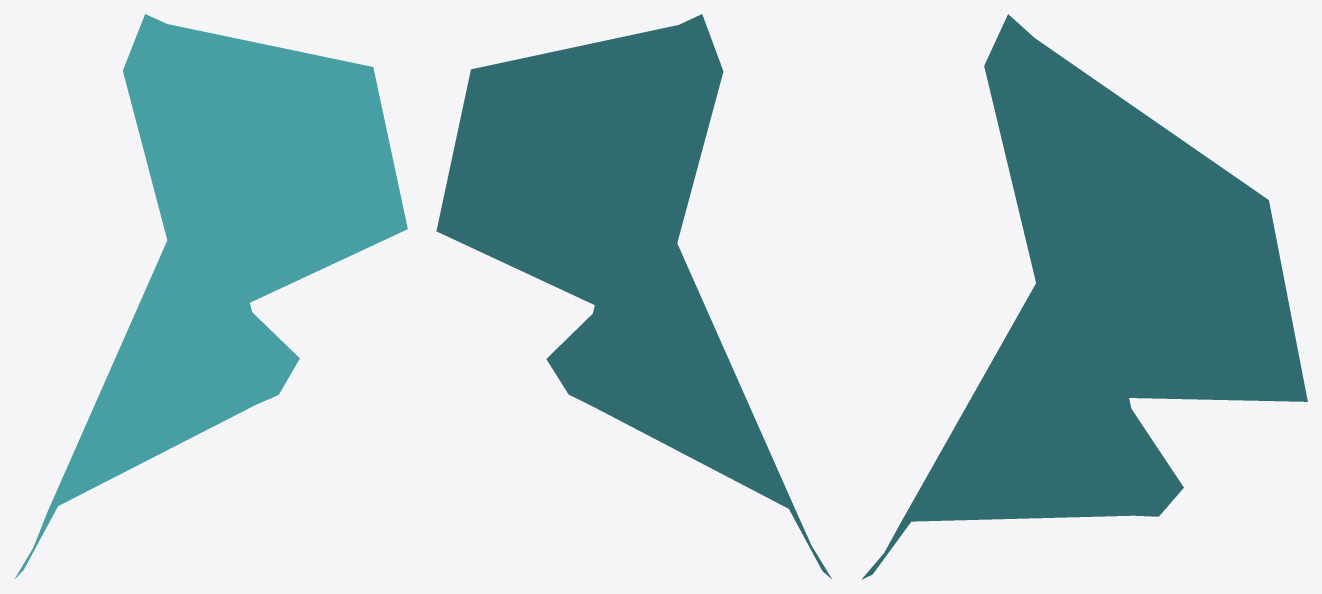
3 renders of one model, left to right at view 1: azimuth 30°, elevation 25°; view 2: azimuth 150°, elevation 25°; view 3: azimuth 330°, elevation 25°, orthographic. The views are drawn at different scales.
Parts seen in each view (by area): view 1: Origami_Model_18; view 2: Origami_Model_18; view 3: Origami_Model_18.
Boxes of the visible parts, <box> form: Origami_Model_18: <box>14,14,407,579</box>; Origami_Model_18: <box>436,14,831,578</box>; Origami_Model_18: <box>861,14,1307,579</box>.
Bounding box in the file's own units: 1.2 × 1.55 × 0.0085.
